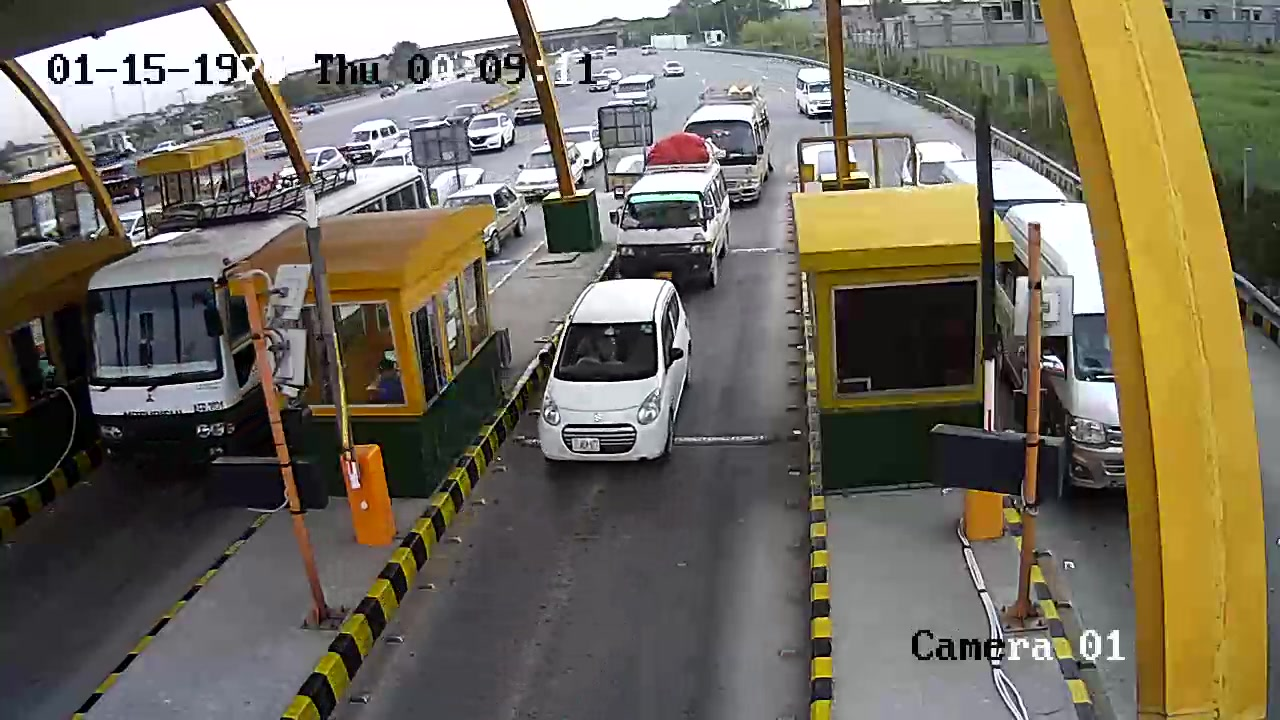F1: (520, 267, 696, 472)
